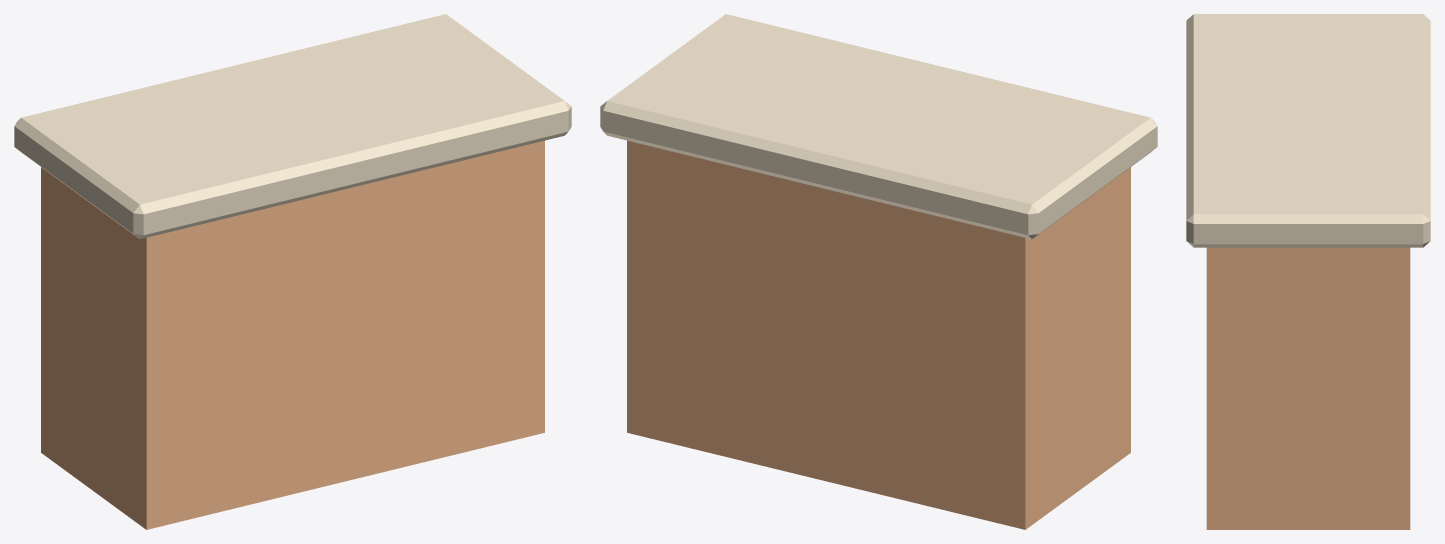
The picture shows the model from 3 angles, left to right: view 1: azimuth 30°, elevation 25°; view 2: azimuth 150°, elevation 25°; view 3: azimuth 270°, elevation 25°; orthographic projection. The views are drawn at different scales.
Parts seen in each view (by area): view 1: Desk body, Desk top; view 2: Desk body, Desk top; view 3: Desk body, Desk top.
Part boxes in pixels (left/top/right/bottom): Desk body: left=41, top=140, right=544, bottom=529; Desk top: left=14, top=14, right=571, bottom=239; Desk body: left=627, top=140, right=1130, bottom=529; Desk top: left=600, top=14, right=1157, bottom=239; Desk body: left=1206, top=247, right=1410, bottom=529; Desk top: left=1186, top=14, right=1430, bottom=247.
Size of the model in its own units: 132 by 96 by 66.
